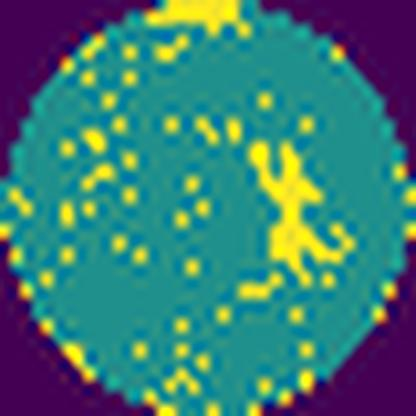Loc: (249, 140, 354, 280), (150, 0, 242, 26)
